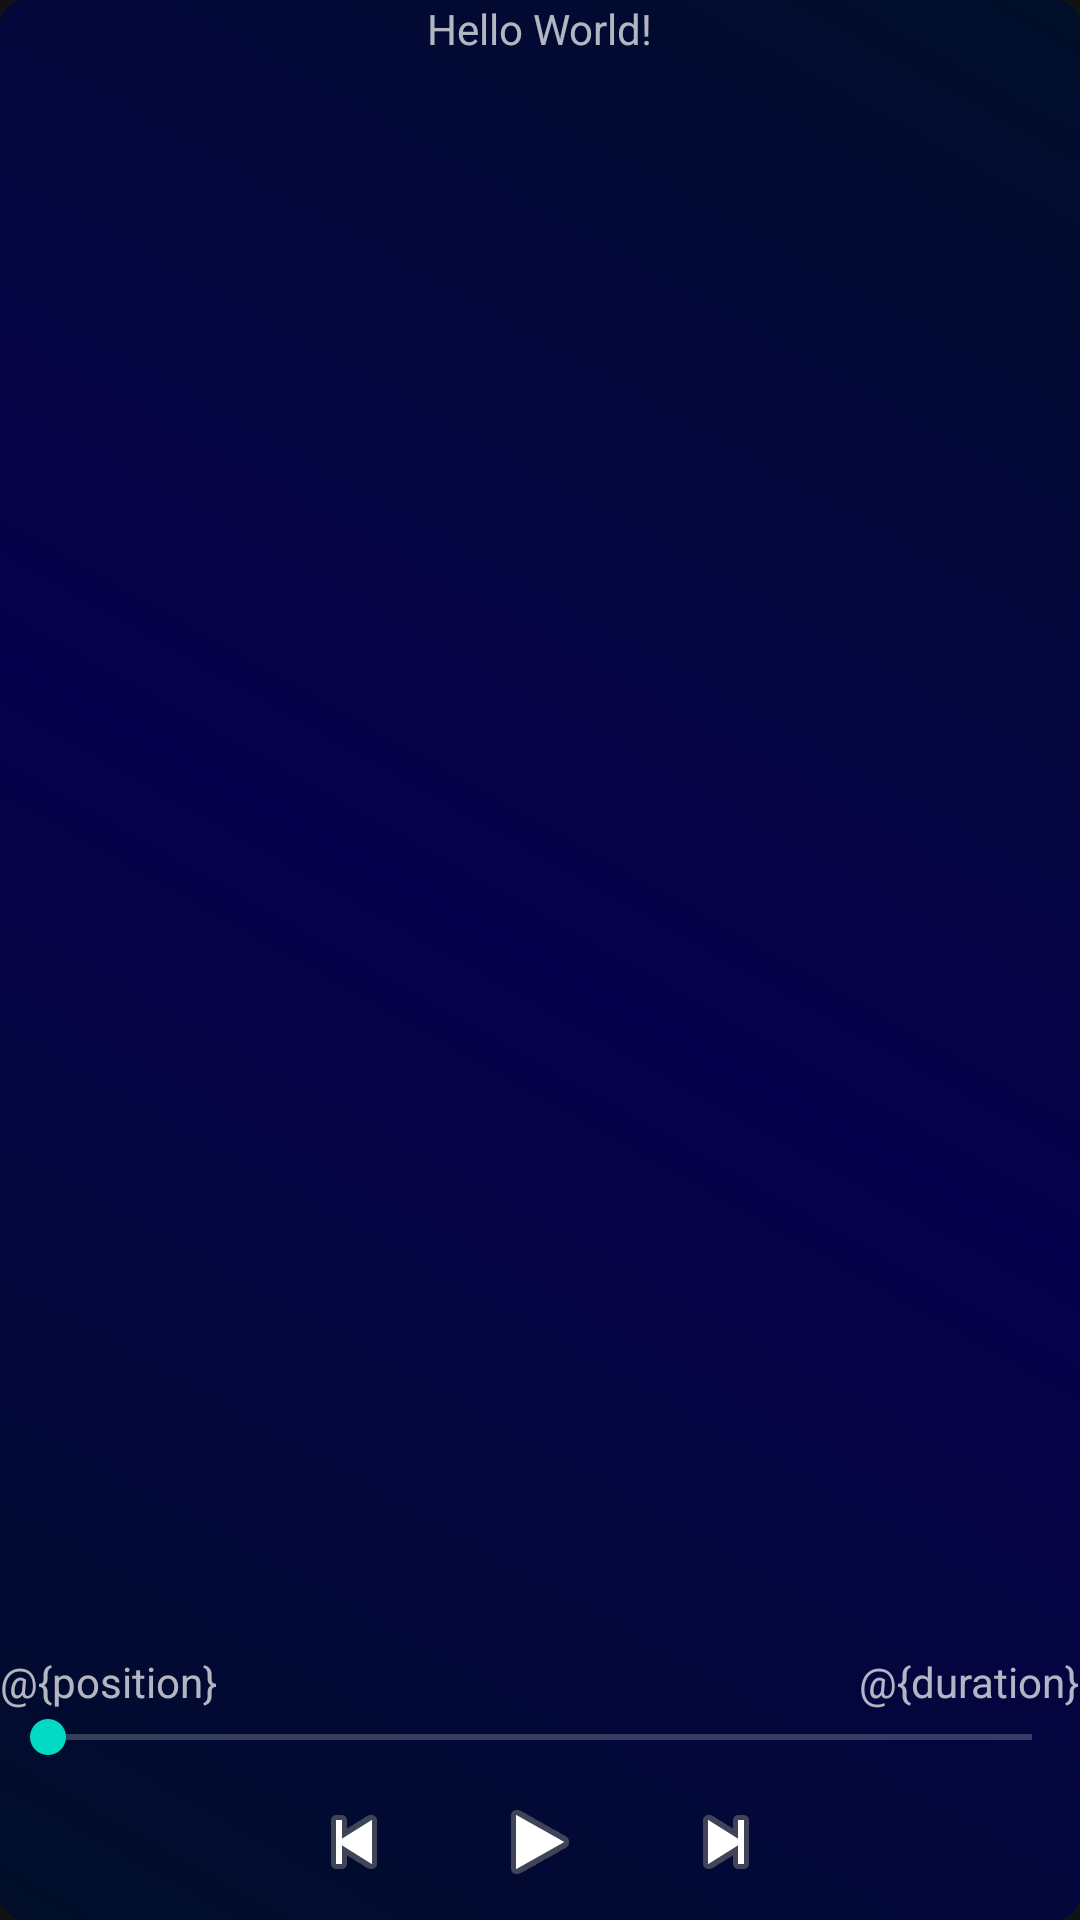

Named icons in this screenshot (1080x1920) and their centers, point (x, y):
next: point (726, 1842)
play: point (540, 1842)
previous: point (354, 1842)
